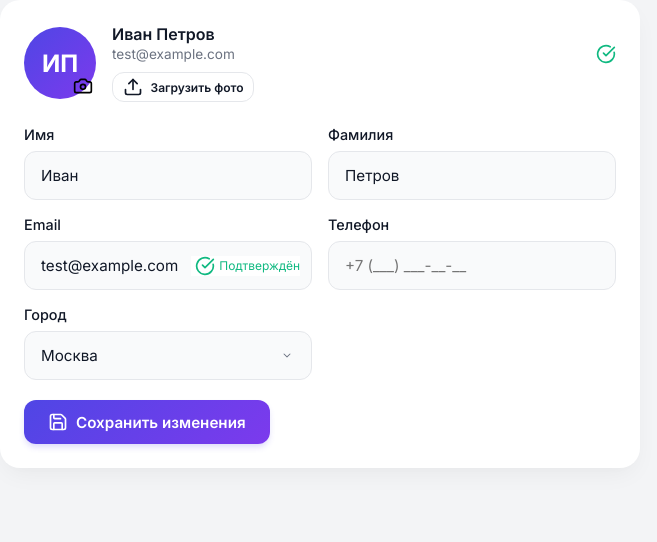
Test: SettingsProfilePage › shows error on save failure
Click the button "Сохранить изменения" at (147, 422), box [24,400,270,444]
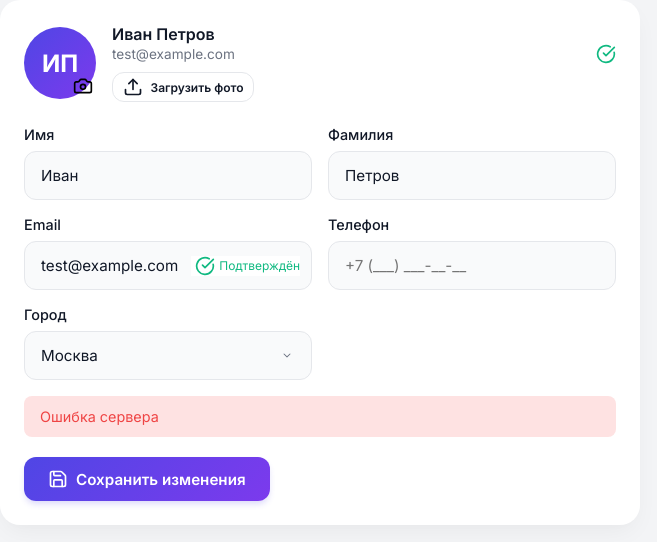
Now the text "Ошибка сервера" is shown, box [24,396,616,437]
